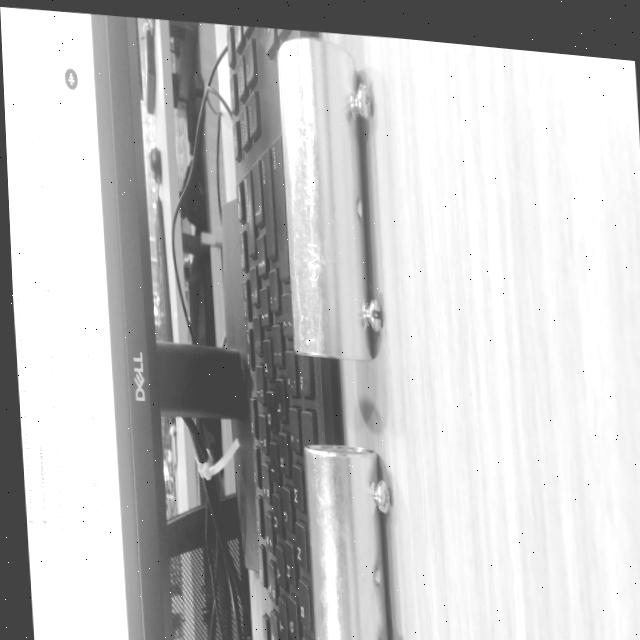Co_Lon: (278, 29, 387, 366)
Co_Nho: (304, 438, 390, 640)
